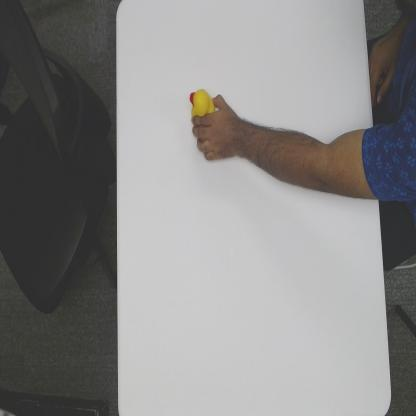Arm: (238, 115, 376, 201)
Duck: (189, 88, 215, 145)
Hand: (191, 93, 238, 163)
